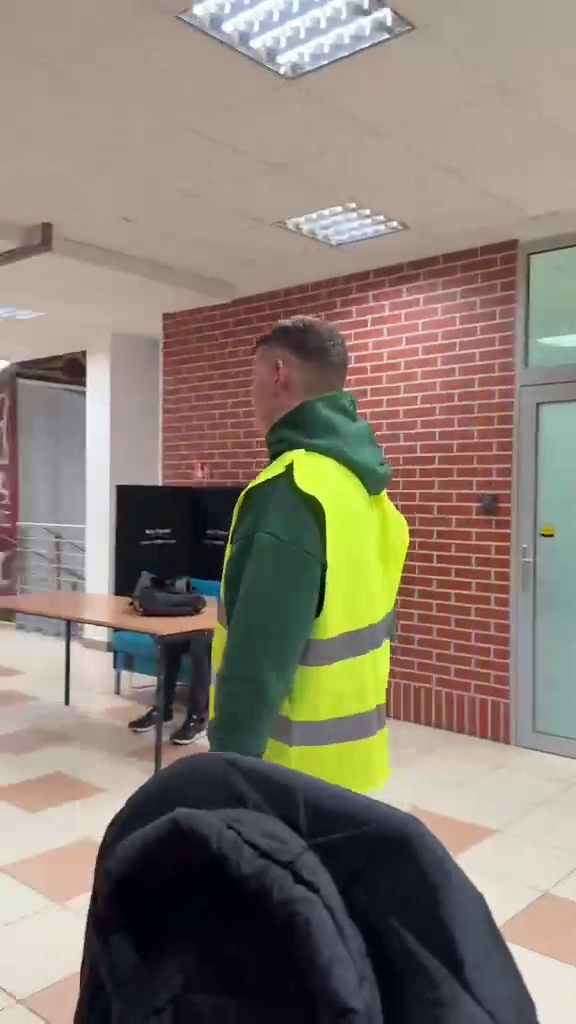vest: (213, 313, 401, 791)
